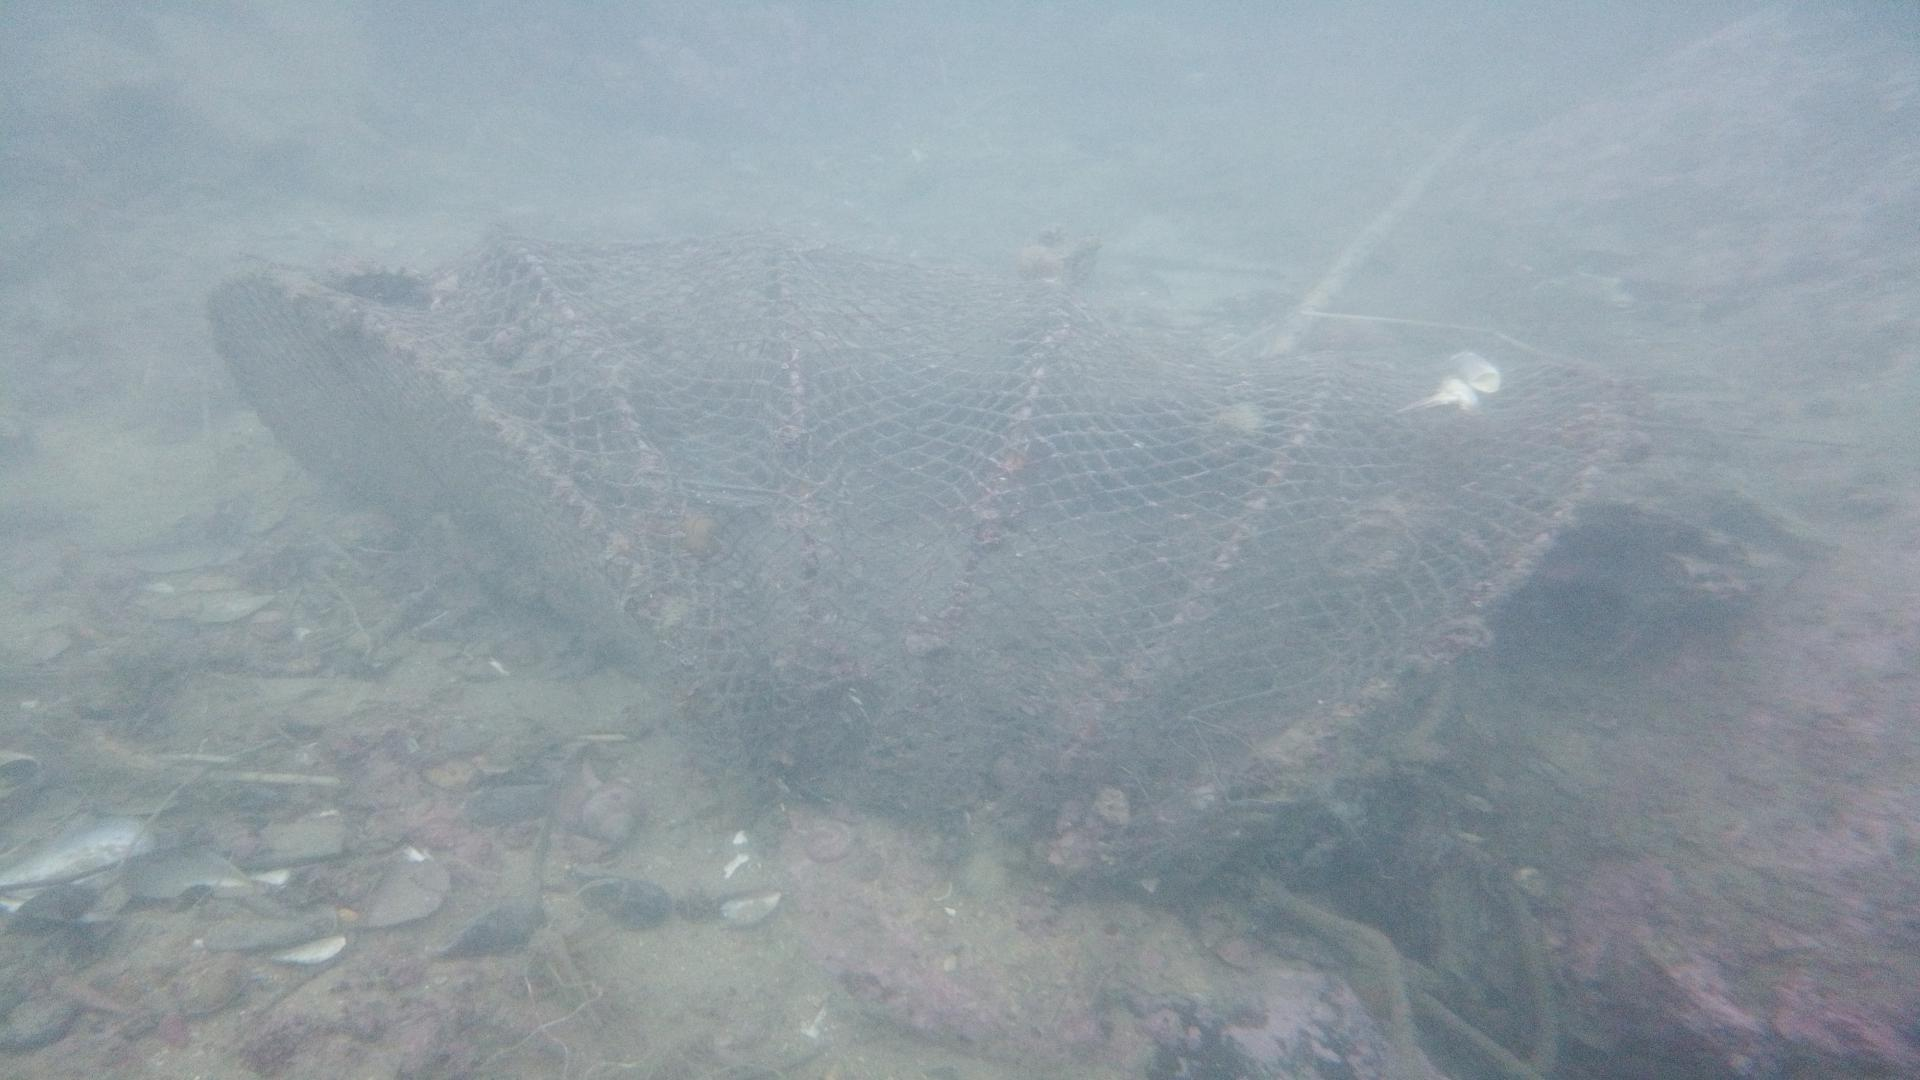spring fish trap: (194, 211, 1623, 905)
